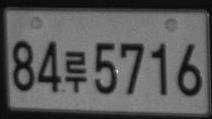1: (149, 43, 174, 95)
4: (37, 40, 62, 93)
5: (93, 42, 117, 93)
6: (176, 43, 202, 96)
7: (119, 42, 145, 95)
8: (11, 39, 34, 91)
루: (64, 50, 87, 92)
